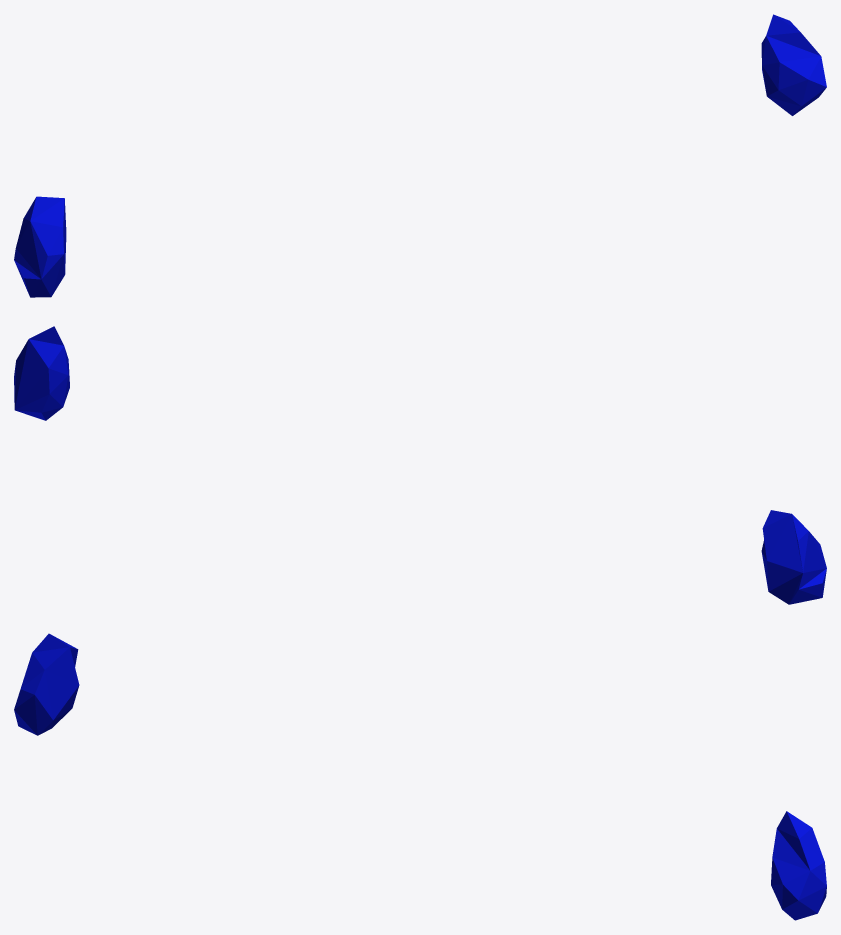
The model's file is 133-MGM-medial geniculate nucleus, medial part-('0.0000', '0.0745', '1.0000').obj.
3 views of the same model, one above another, from view 1: azimuth 30°, elevation 25°; view 2: azimuth 150°, elevation 25°; view 3: azimuth 330°, elevation 25° (orthographic).
Size of the model in its own units: 107 by 12.93 by 7.77.
